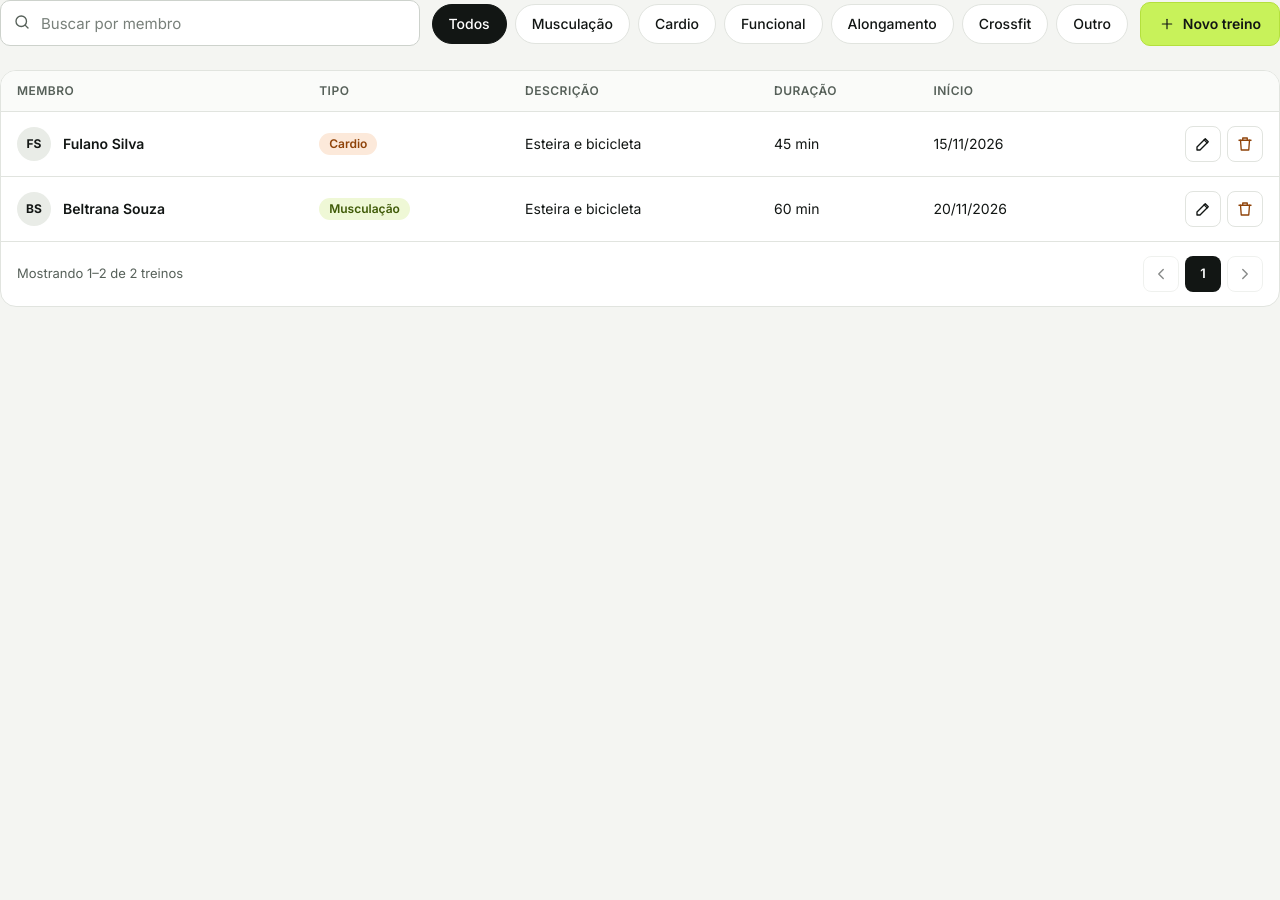
TelaTreinos › excluir › Cancelar fecha a confirmação sem excluir
The image size is (1280, 900).
expect the text "Fulano Silva" is shown: met, box [63,134,144,154]
What coordinates should you click on to do the following:
click the button named "Excluir treino Cardio de Fulano Silva com início em 15/11/2026"
I would click on:
 (1245, 144)
Its box is [1227,126,1263,162].
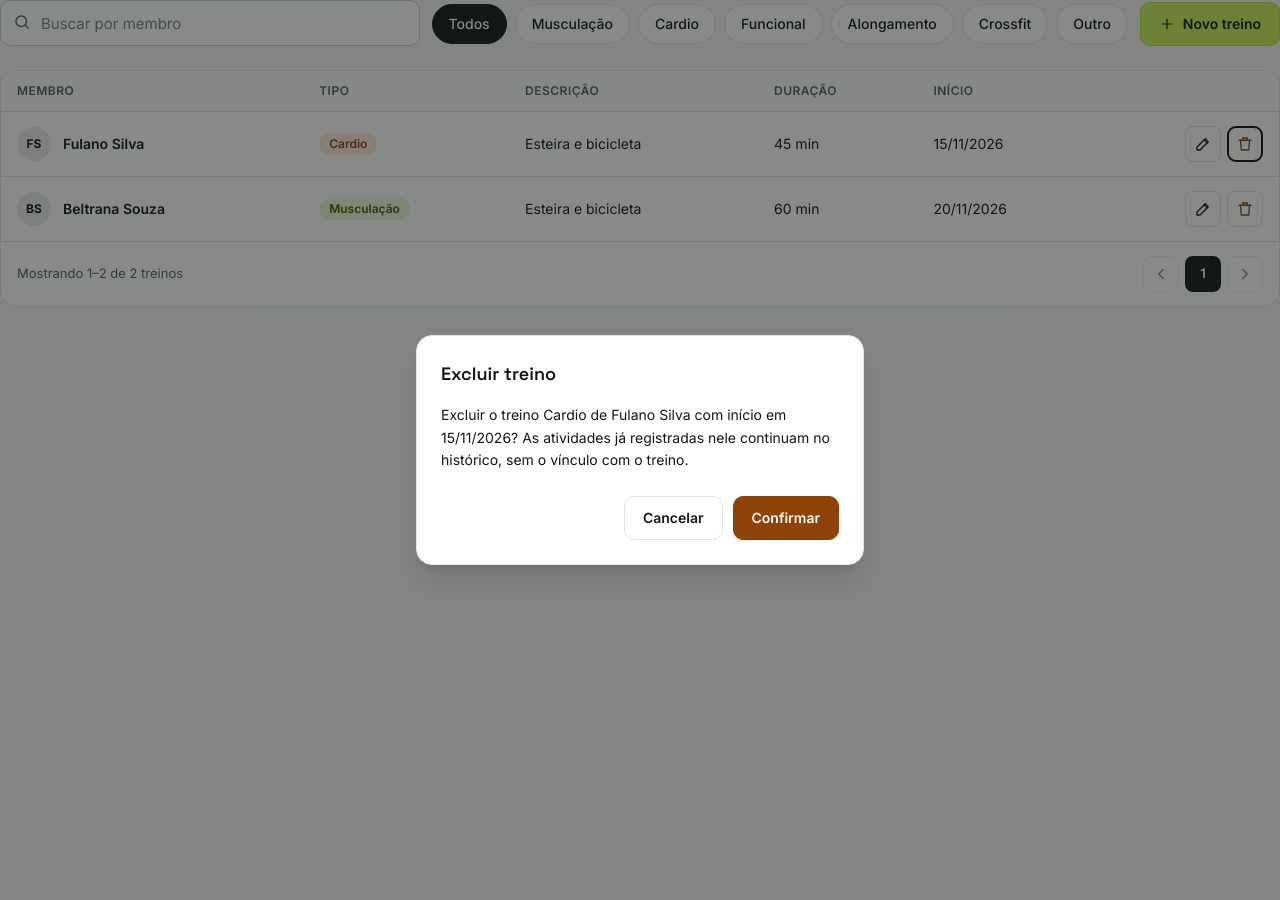
What coordinates should you click on to do the following:
click the button "Cancelar"
I would click on:
 (673, 518)
Its box is [624,496,722,540].
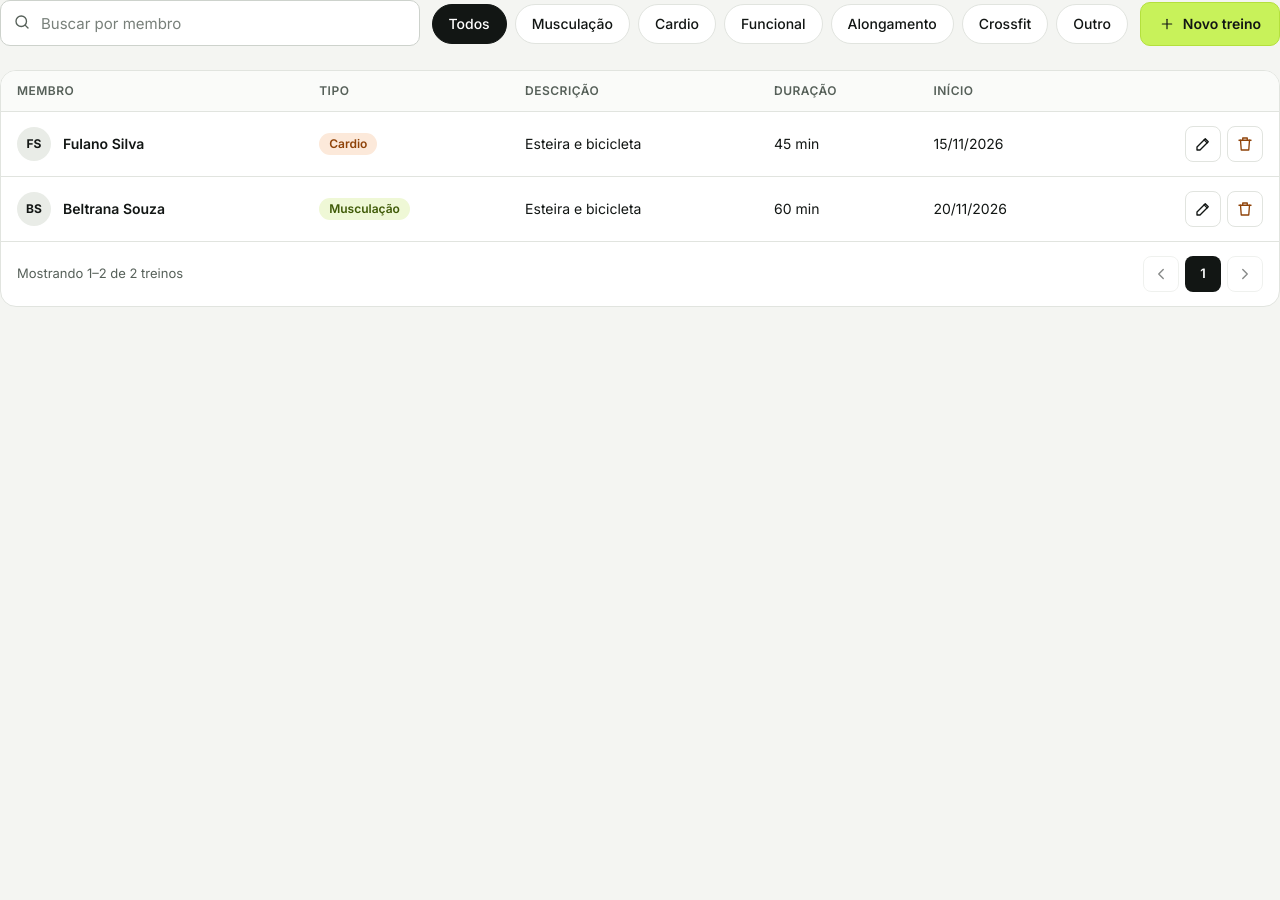
expect the dialog is gone: met
